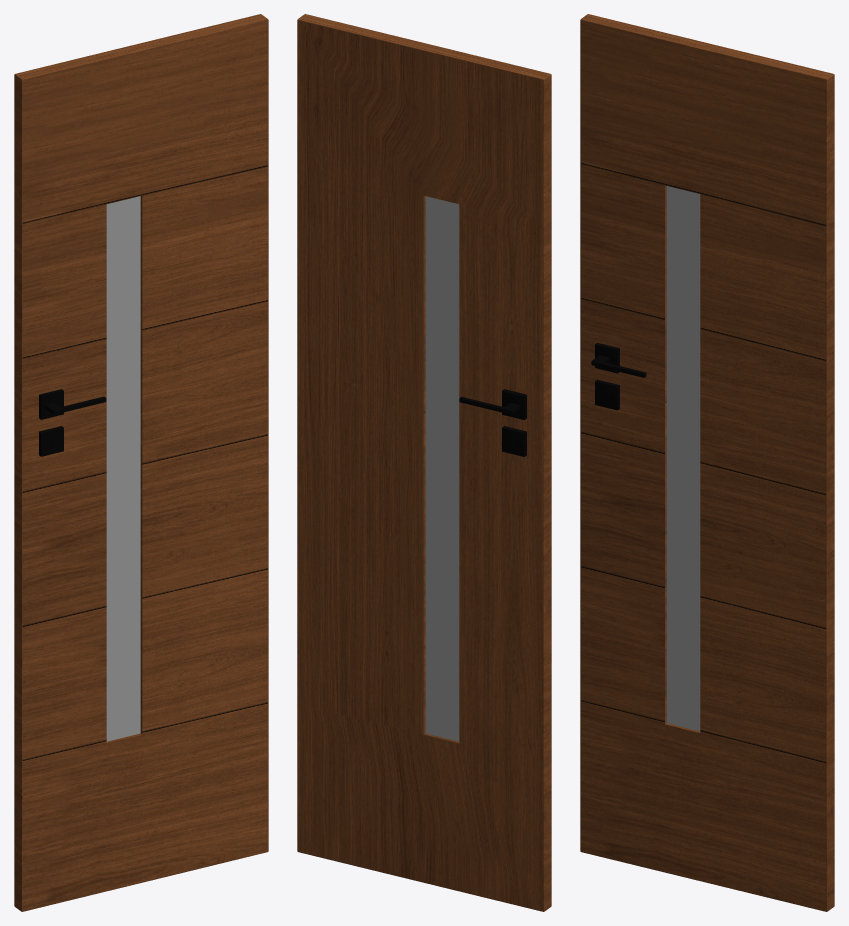
File: VE_7_3a_door.glb
3 views of the same model, side by side, from view 1: azimuth 30°, elevation 25°; view 2: azimuth 150°, elevation 25°; view 3: azimuth 330°, elevation 25° (orthographic).
Visible parts, largest first — view 1: V_E_7__3a_door_; view 2: V_E_7__3a_door_; view 3: V_E_7__3a_door_.
Boxes of the visible parts, box(x1,y1,x2,y2) form: V_E_7__3a_door_: box(14, 14, 268, 911); V_E_7__3a_door_: box(297, 14, 551, 911); V_E_7__3a_door_: box(580, 14, 834, 911).
Bounding box in the file's own units: 0.5468 × 1.76 × 0.1089.
2 materials, 1 textured.
